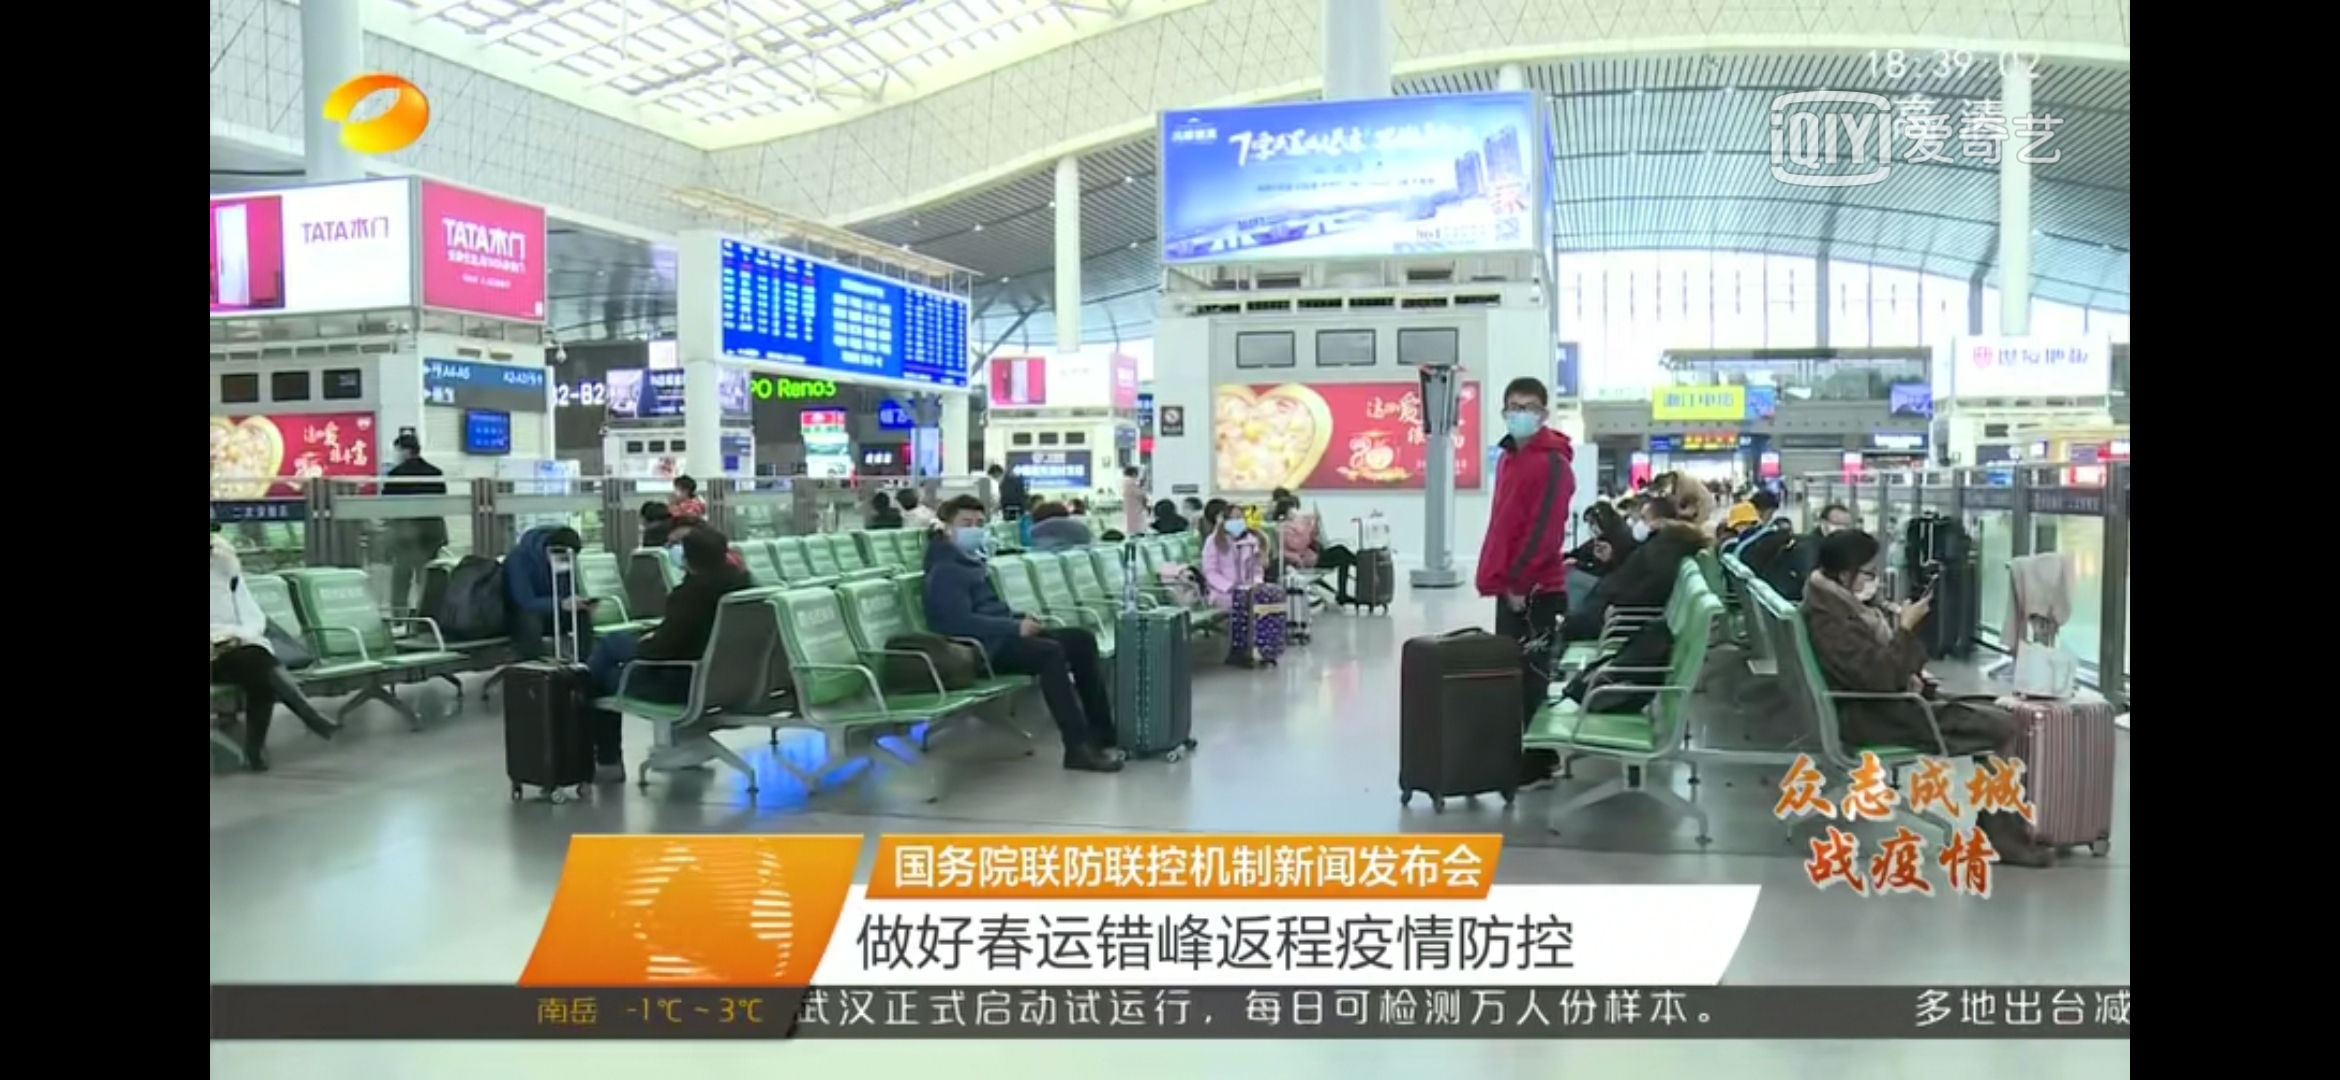correctlyWear: (1839, 550, 1885, 603), (1500, 395, 1551, 442), (942, 512, 989, 550), (1630, 506, 1662, 543), (667, 531, 694, 568), (1221, 512, 1249, 536)
